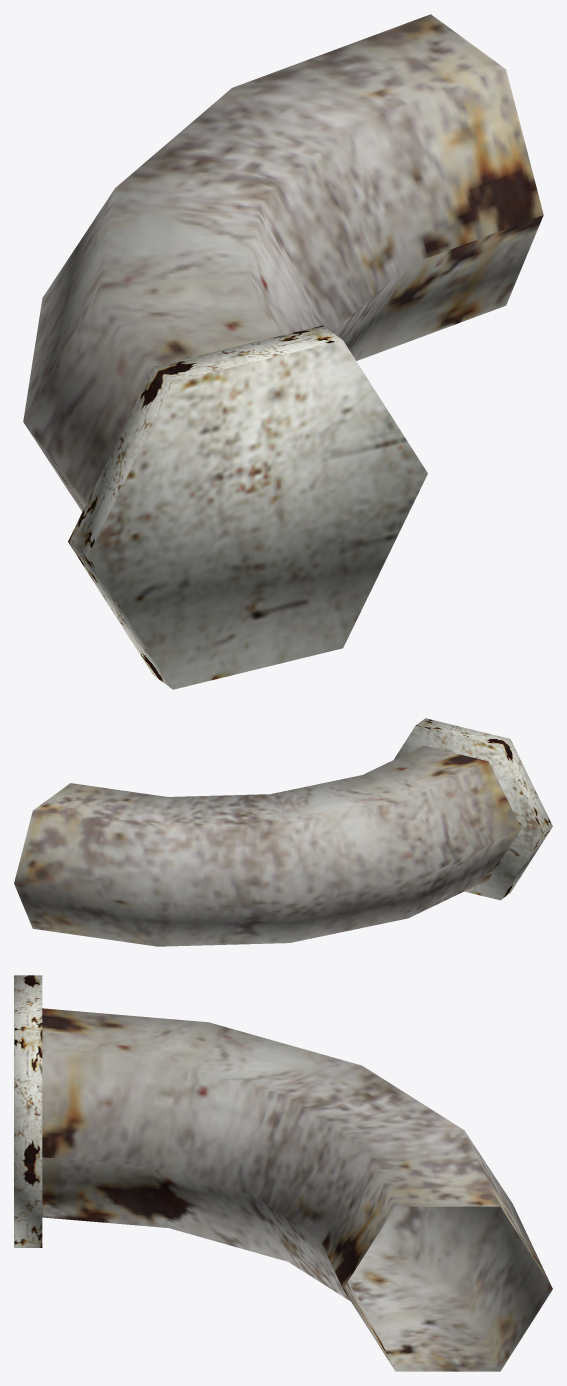
File: large_white_4_elbow_hz.fbx
The picture shows the model from 3 angles, top to bottom: view 1: azimuth 30°, elevation 25°; view 2: azimuth 150°, elevation 25°; view 3: azimuth 270°, elevation 25°; orthographic projection. The views are drawn at different scales.
Parts seen in each view (by area): view 1: polySurface645; view 2: polySurface645; view 3: polySurface645.
Part boxes in pixels (x1,y1,x2,y2): polySurface645: (23,14,543,689); polySurface645: (14,718,552,946); polySurface645: (14,975,552,1371).
Size of the model in its own units: 2.65 by 1.13 by 2.57.
